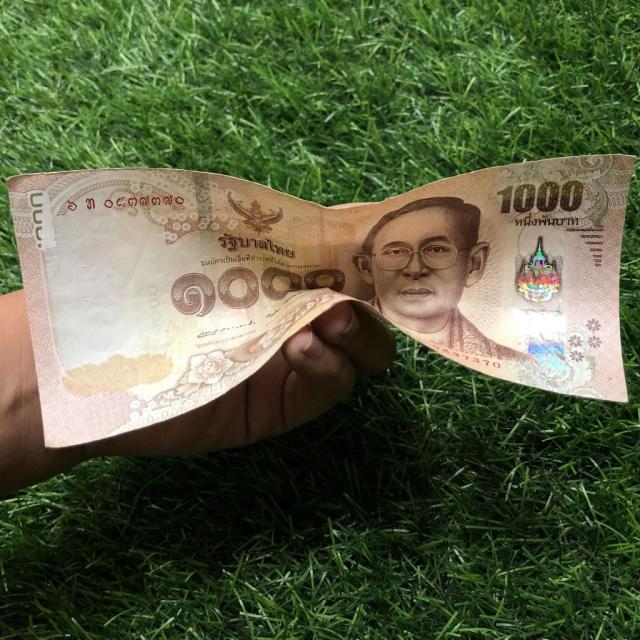THAI1000: (6, 155, 636, 451)
